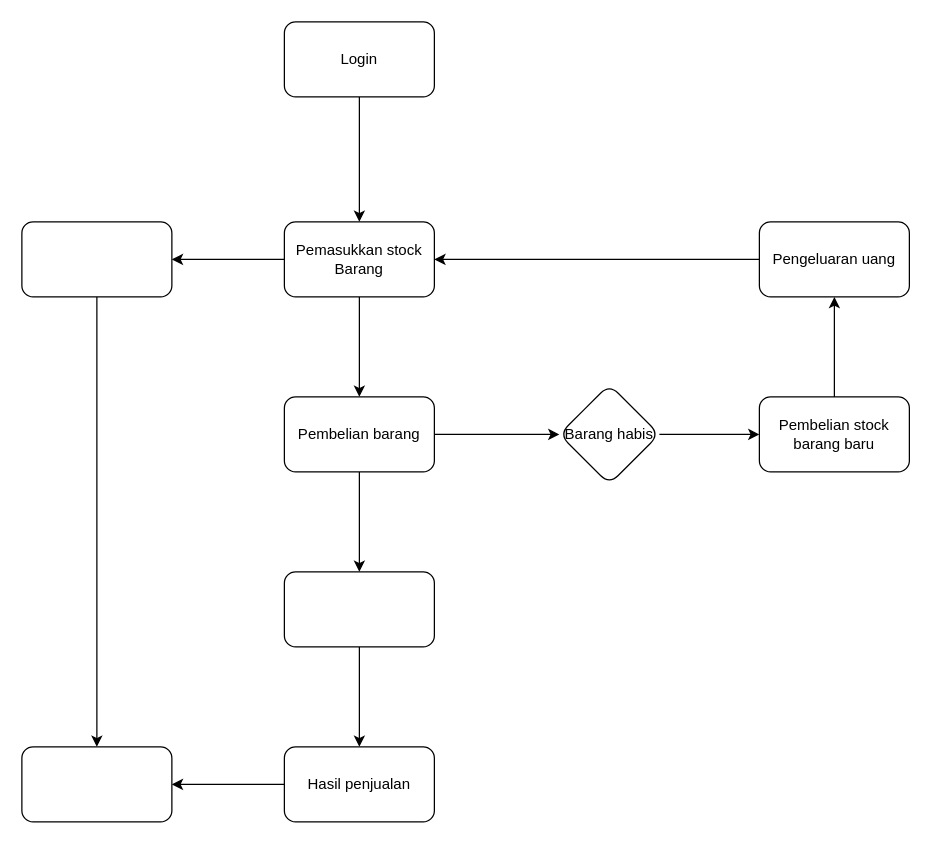
Image size: 931x844. Some labels were removed from this diagram. The box of each missing label's shape, as (x1, y1, x2, y2) in pixels:
informasi pembelian: (283, 571, 434, 647)
Laba: (21, 221, 172, 297)
Laporan Keuangan: (21, 746, 172, 822)
